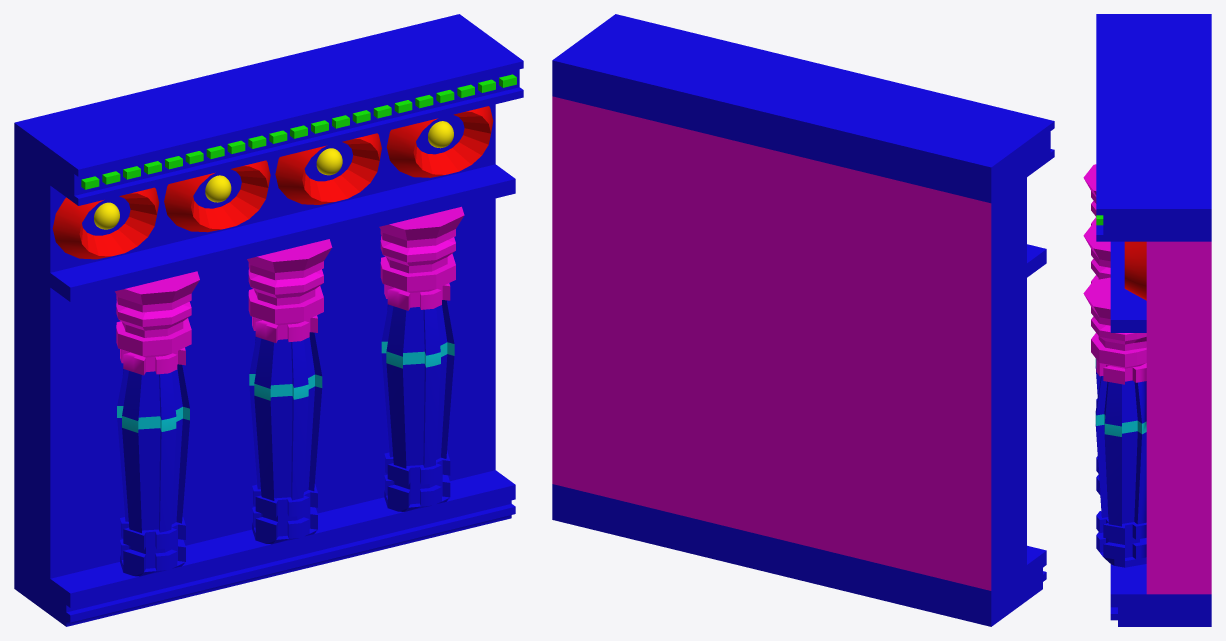
The model's file is murhaut1.FBX.
The picture shows the model from 3 angles, left to right: view 1: azimuth 30°, elevation 25°; view 2: azimuth 150°, elevation 25°; view 3: azimuth 270°, elevation 25°; orthographic projection. The views are drawn at different scales.
Parts seen in each view (by area): view 1: Object001; view 2: Object001; view 3: Object001.
Boxes of the visible parts, box(x1,y1,x2,y2) form: Object001: box(14, 14, 523, 626); Object001: box(552, 14, 1054, 626); Object001: box(1083, 14, 1211, 626).
Bounding box in the file's own units: 256 × 256 × 71.1.
